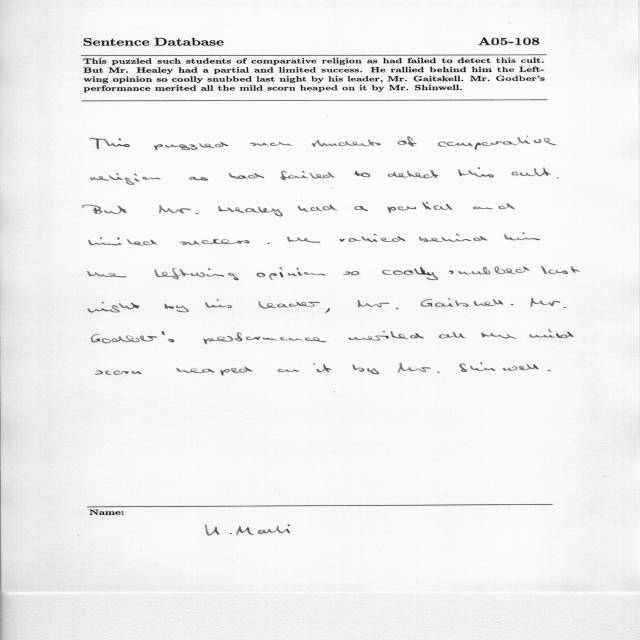word: (438, 136, 556, 150), (203, 332, 326, 344), (154, 268, 239, 280), (91, 332, 175, 344), (257, 267, 326, 280), (90, 173, 161, 185), (349, 331, 424, 341), (421, 298, 504, 307), (382, 267, 438, 280), (459, 363, 539, 372), (218, 206, 283, 217), (388, 202, 453, 213), (177, 367, 253, 376), (449, 267, 530, 275), (89, 237, 157, 246), (419, 233, 487, 242), (154, 142, 229, 150), (88, 302, 139, 313), (340, 234, 405, 242), (280, 171, 335, 180), (312, 140, 381, 147), (90, 138, 130, 149), (258, 302, 320, 309), (180, 239, 250, 245), (398, 363, 440, 373), (388, 170, 439, 178), (83, 205, 127, 214), (358, 300, 399, 309), (458, 168, 494, 178), (530, 298, 566, 308), (530, 330, 574, 338), (159, 205, 198, 214), (512, 168, 551, 176), (541, 266, 580, 274), (298, 205, 338, 212), (88, 271, 127, 278), (352, 365, 379, 375), (473, 204, 515, 210), (504, 233, 540, 240), (481, 332, 516, 339), (205, 299, 232, 308), (96, 370, 143, 375), (397, 136, 417, 147), (229, 173, 265, 179), (164, 304, 189, 312), (287, 237, 320, 243), (439, 332, 466, 339), (250, 142, 292, 146), (313, 364, 331, 373), (354, 171, 370, 177), (189, 177, 208, 181), (354, 206, 368, 211), (344, 271, 360, 275), (278, 369, 299, 372), (325, 308, 330, 313), (548, 370, 551, 371), (557, 178, 559, 179), (268, 243, 270, 244), (511, 304, 513, 305)
